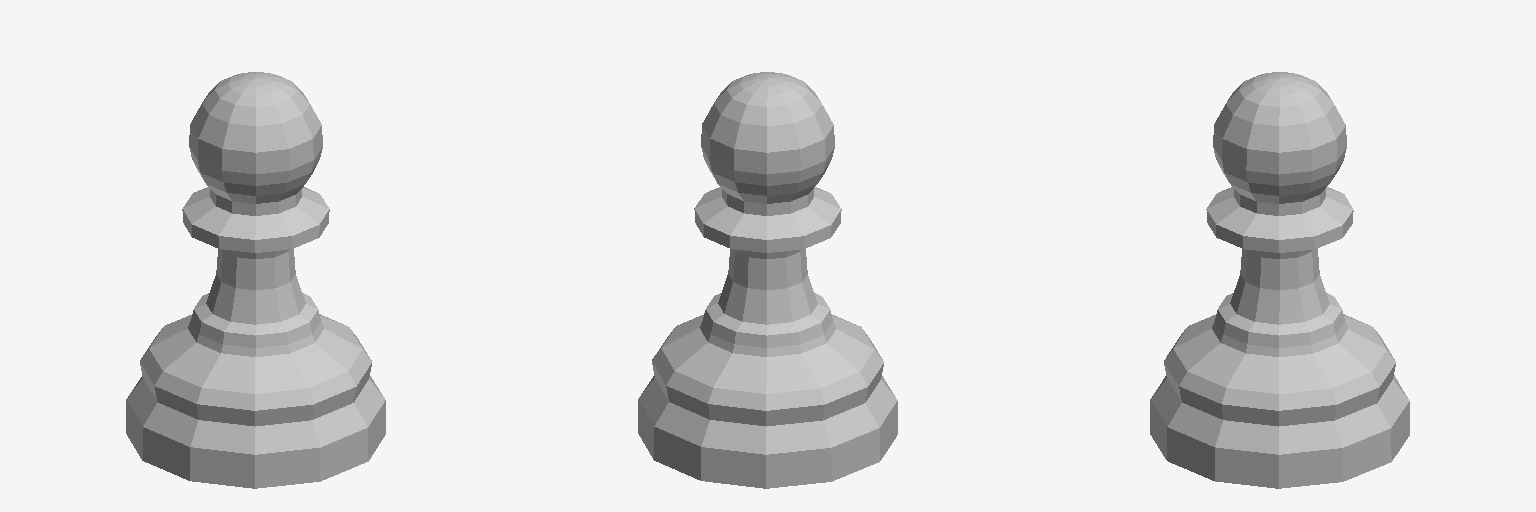
File: pawn_self_modeled.obj
3 views of the same model, side by side, from view 1: azimuth 30°, elevation 25°; view 2: azimuth 150°, elevation 25°; view 3: azimuth 270°, elevation 25° (orthographic).
Visible parts, largest first — view 1: Plane; view 2: Plane; view 3: Plane.
Boxes of the visible parts, x1=… form: Plane: x1=126, y1=72, x2=385, y2=488; Plane: x1=638, y1=72, x2=897, y2=488; Plane: x1=1150, y1=72, x2=1409, y2=488.
Bounding box in the file's own units: 1.74 × 2.62 × 1.74.